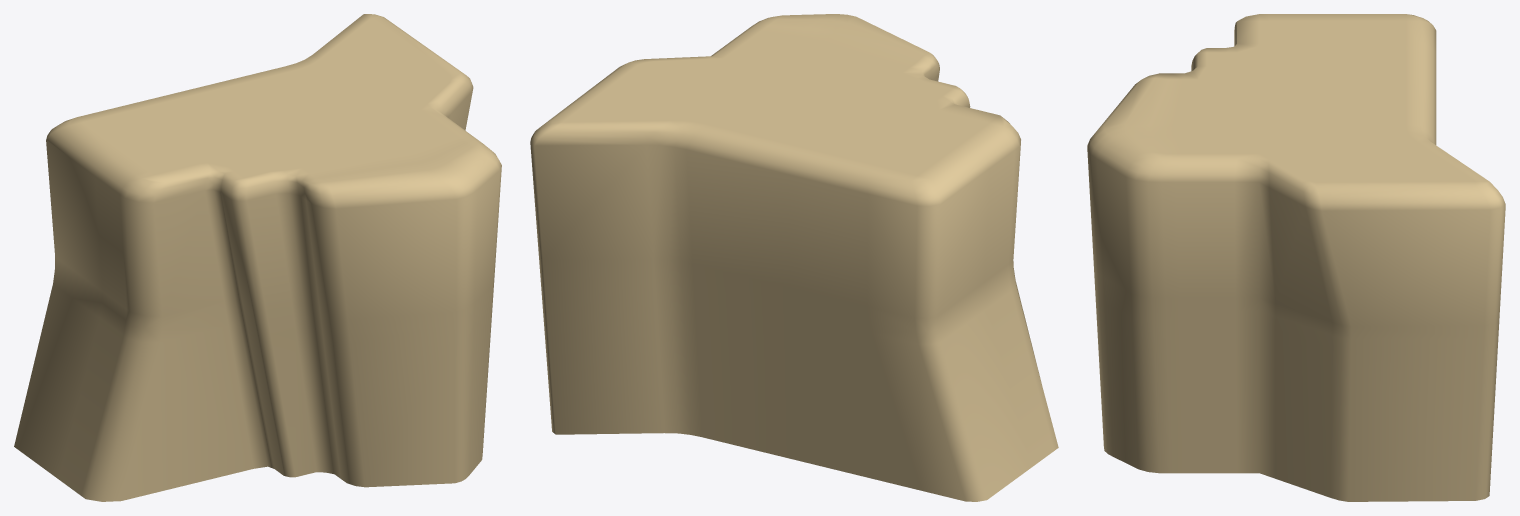
File: Rock02_MESH.FBX
3 views of the same model, side by side, from view 1: azimuth 30°, elevation 25°; view 2: azimuth 150°, elevation 25°; view 3: azimuth 270°, elevation 25° (orthographic). The views are drawn at different scales.
Visible parts, largest first — view 1: Rock02_low; view 2: Rock02_low; view 3: Rock02_low.
Part boxes in pixels (x1,y1,x2,y2): Rock02_low: (14,14,501,501); Rock02_low: (530,14,1058,501); Rock02_low: (1087,14,1505,501).
Bounding box in the file's own units: 837 × 594 × 712.
